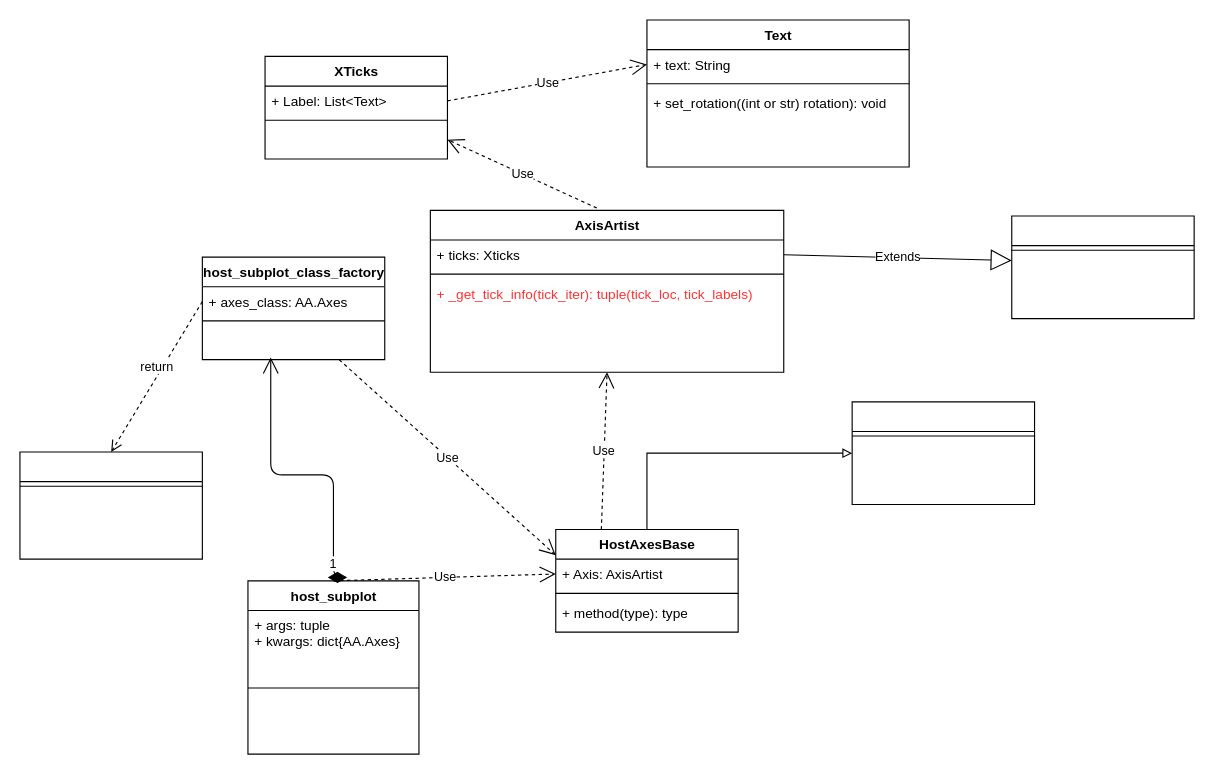
This 1214x774 diagram has some shape labels left out. Each missing label, with the centre of its shape:
"Artist" goes at [1102,267].
"Axes" goes at [943,452].
"AxesHostAxesSubplot" goes at [110,505].
